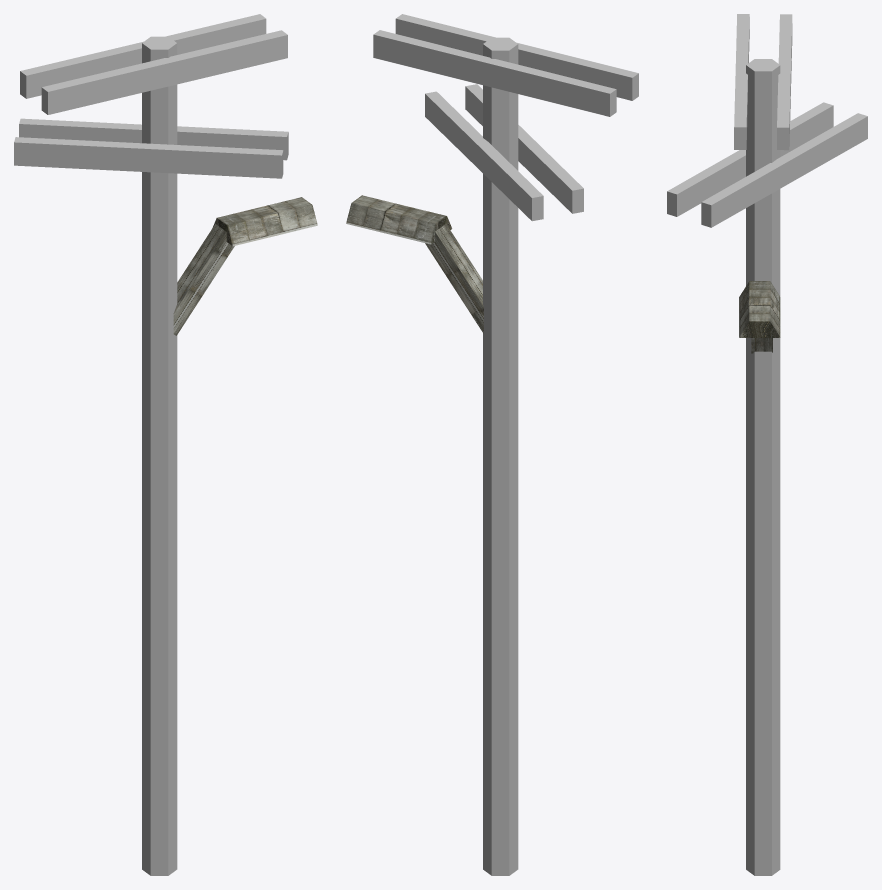
The model's file is UtilityPole 1.fbx.
The picture shows the model from 3 angles, left to right: view 1: azimuth 30°, elevation 25°; view 2: azimuth 150°, elevation 25°; view 3: azimuth 270°, elevation 25°; orthographic projection. The views are drawn at different scales.
Visible parts, largest first — view 1: Cylinder; view 2: Cylinder; view 3: Cylinder.
Boxes of the visible parts, box(x1,y1,x2,y2) form: Cylinder: box(14, 14, 317, 875); Cylinder: box(346, 14, 638, 875); Cylinder: box(667, 14, 867, 875).
Size of the model in its own units: 109 by 317 by 71.81.
